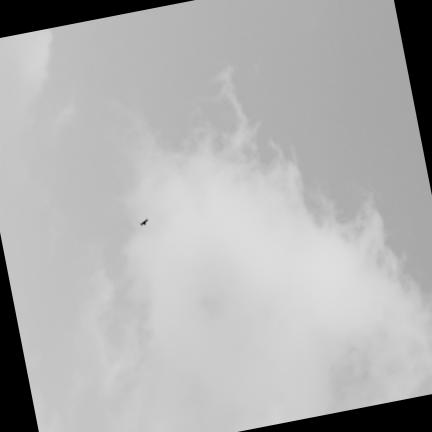Shahed: (140, 219, 146, 226)
